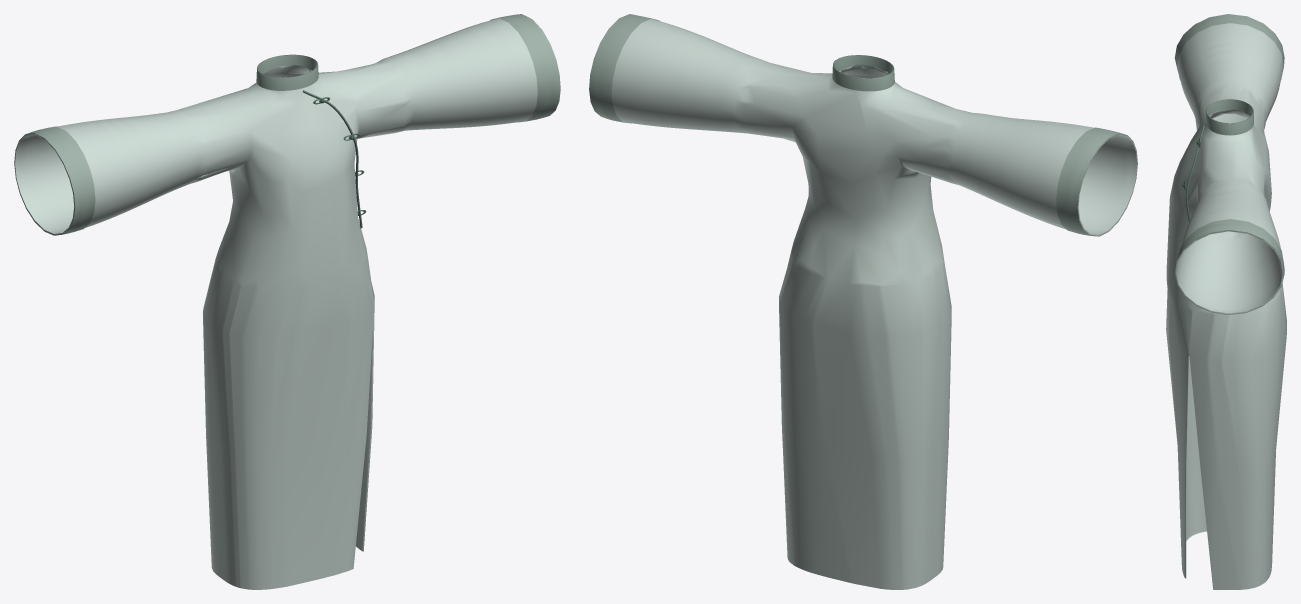
The model's file is qipao-only.glb.
The picture shows the model from 3 angles, left to right: view 1: azimuth 30°, elevation 25°; view 2: azimuth 150°, elevation 25°; view 3: azimuth 270°, elevation 25°; orthographic projection. The views are drawn at different scales.
Parts seen in each view (by area): view 1: Apparel_qipao_cloth, Apparel_qipao_cuffs, Apparel_qipao_standing_collar; view 2: Apparel_qipao_cloth, Apparel_qipao_cuffs, Apparel_qipao_standing_collar; view 3: Apparel_qipao_cloth, Apparel_qipao_cuffs, Apparel_qipao_standing_collar, Apparel_qipao_diagonal_trim.
Boxes of the visible parts, <box> form: Apparel_qipao_cloth: <box>14,18,537,589</box>; Apparel_qipao_cuffs: <box>14,14,560,235</box>; Apparel_qipao_standing_collar: <box>256,54,318,90</box>; Apparel_qipao_cloth: <box>611,19,1137,589</box>; Apparel_qipao_cuffs: <box>589,14,1137,236</box>; Apparel_qipao_standing_collar: <box>832,55,894,91</box>; Apparel_qipao_cloth: <box>1166,23,1286,589</box>; Apparel_qipao_cuffs: <box>1174,14,1284,314</box>; Apparel_qipao_standing_collar: <box>1206,99,1253,135</box>; Apparel_qipao_diagonal_trim: <box>1186,125,1204,221</box>.
Bounding box in the file's own units: 3.11 × 3.01 × 0.7344.
